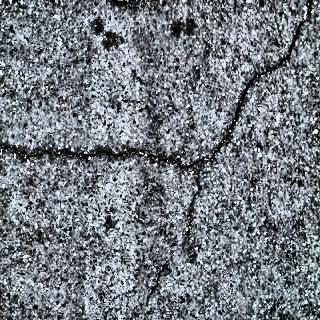crack: (1, 130, 200, 172), (147, 167, 200, 320), (203, 67, 261, 174), (261, 0, 320, 90)
